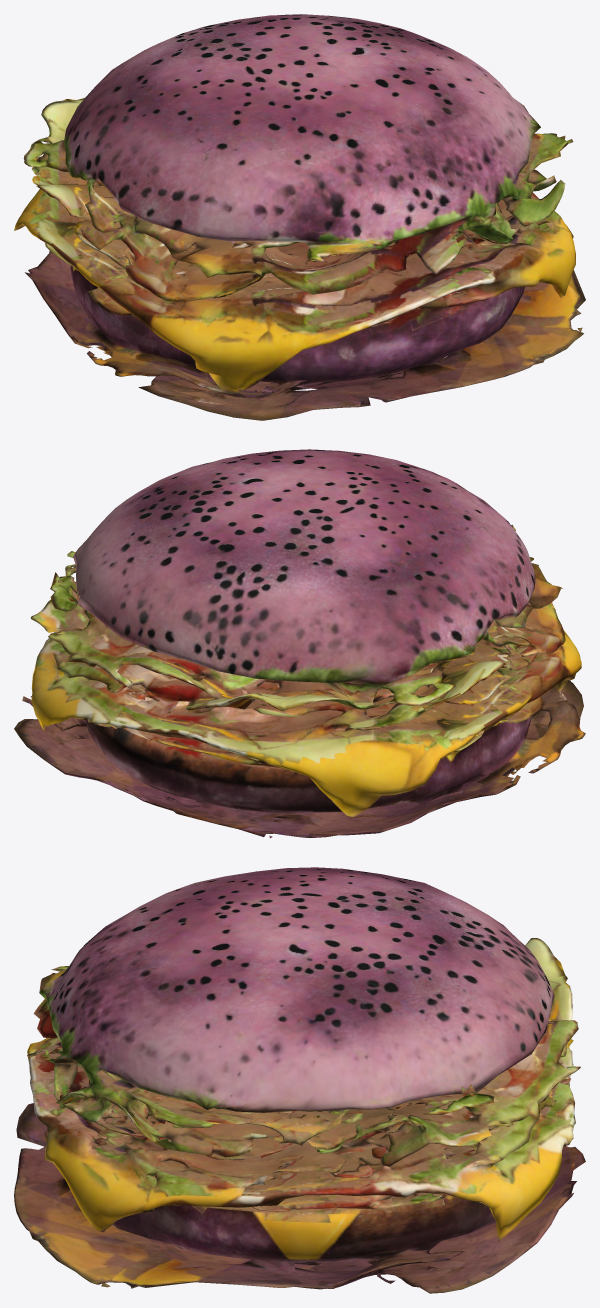
Rendered from Burger.glb.
3 views of the same model, one above another, from view 1: azimuth 30°, elevation 25°; view 2: azimuth 150°, elevation 25°; view 3: azimuth 270°, elevation 25° (orthographic). The views are drawn at different scales.
Bounding box in the file's own units: 1.9 × 1.01 × 1.88.
Materials: 1 (1 with a texture image).
